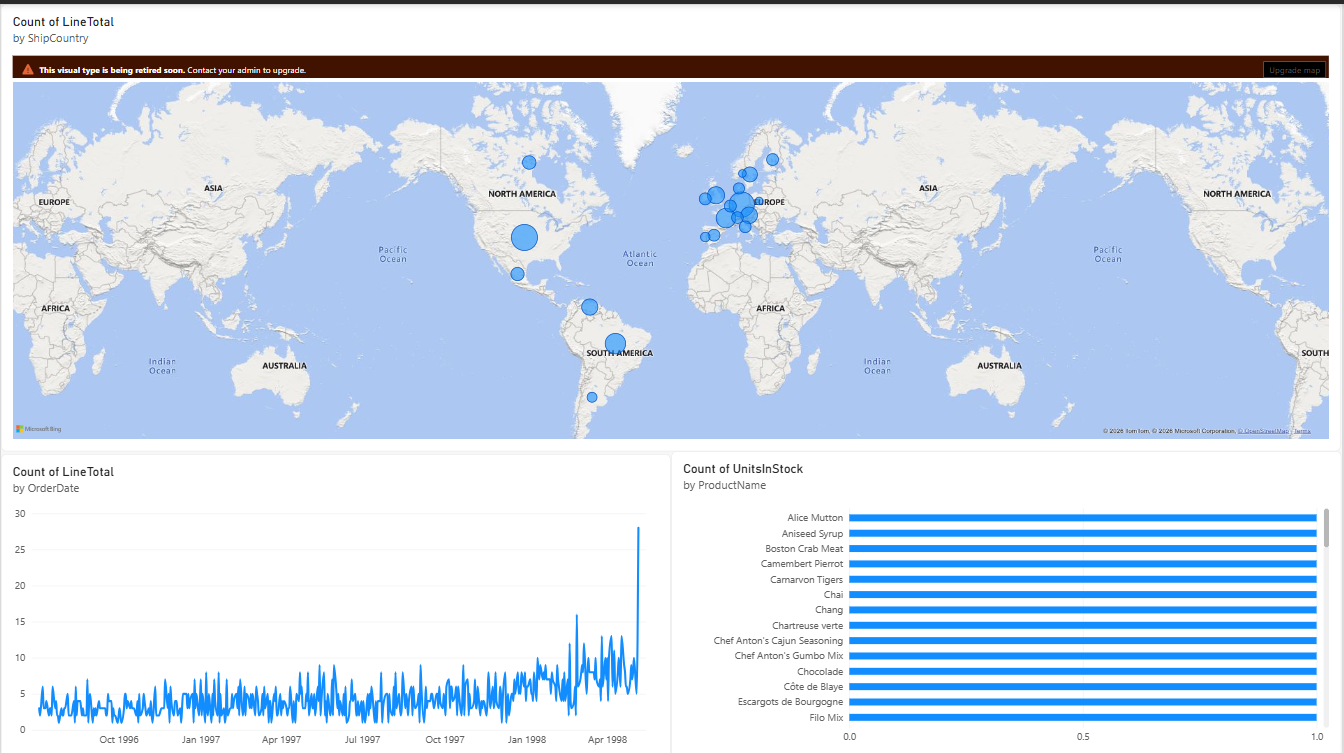

The page's visual inventory and layout, read from the dashboard file:
{"tool":"powerbi","page":{"name":"Page 1","canvas":[1920,1080],"ordinal":0},"visuals":[{"type":"clusteredBarChart","fields":{"Category":["Sheet1.ProductName"],"Y":["CountNonNull(Sheet1.UnitsInStock)"]},"box":[959.4,640.6,959.4,440.6],"z":0},{"type":"lineChart","fields":{"Category":["Orders.OrderDate"],"Y":["Count(Orders.LineTotal)"]},"box":[0,643.8,959.4,440.6],"z":1},{"type":"map","fields":{"Category":["Orders.ShipCountry"],"Size":["CountNonNull(Orders.LineTotal)"]},"box":[0,0,1918.8,640.6],"z":2}]}

Visuals, with their boxes in screenshot pixels (x1, y1, x2, y2), scaled from the page's 1920x1080 canvas onto the 1344x753 screenshot:
clusteredBarChart - Sheet1.ProductName x CountNonNull(Sheet1.UnitsInStock): [672,447,1343,752]
lineChart - Orders.OrderDate x Count(Orders.LineTotal): [0,449,672,752]
map - Orders.ShipCountry x CountNonNull(Orders.LineTotal): [0,0,1343,447]
